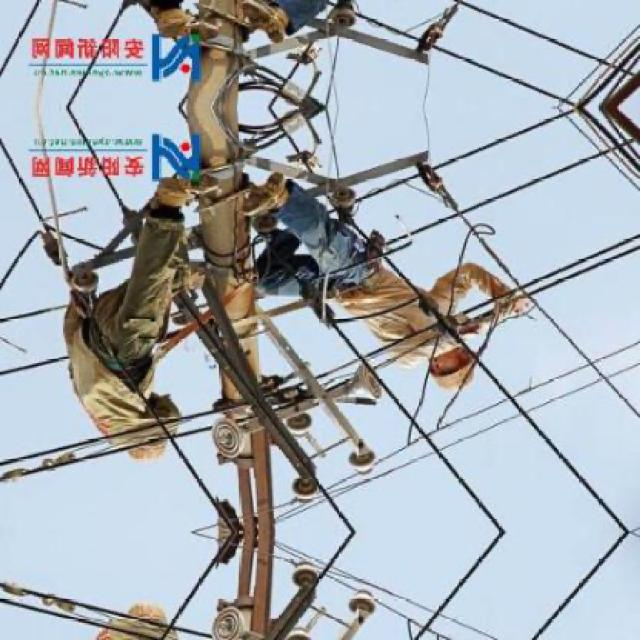con casco: (405, 331, 495, 401)
